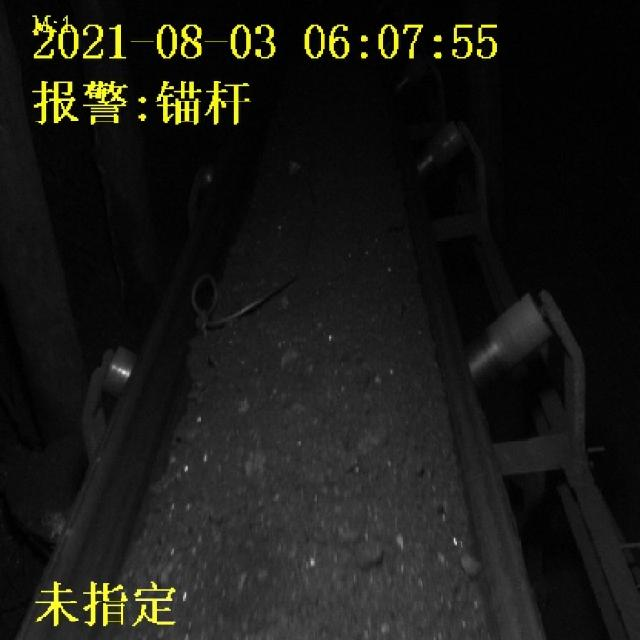bolt: (192, 271, 296, 332)
